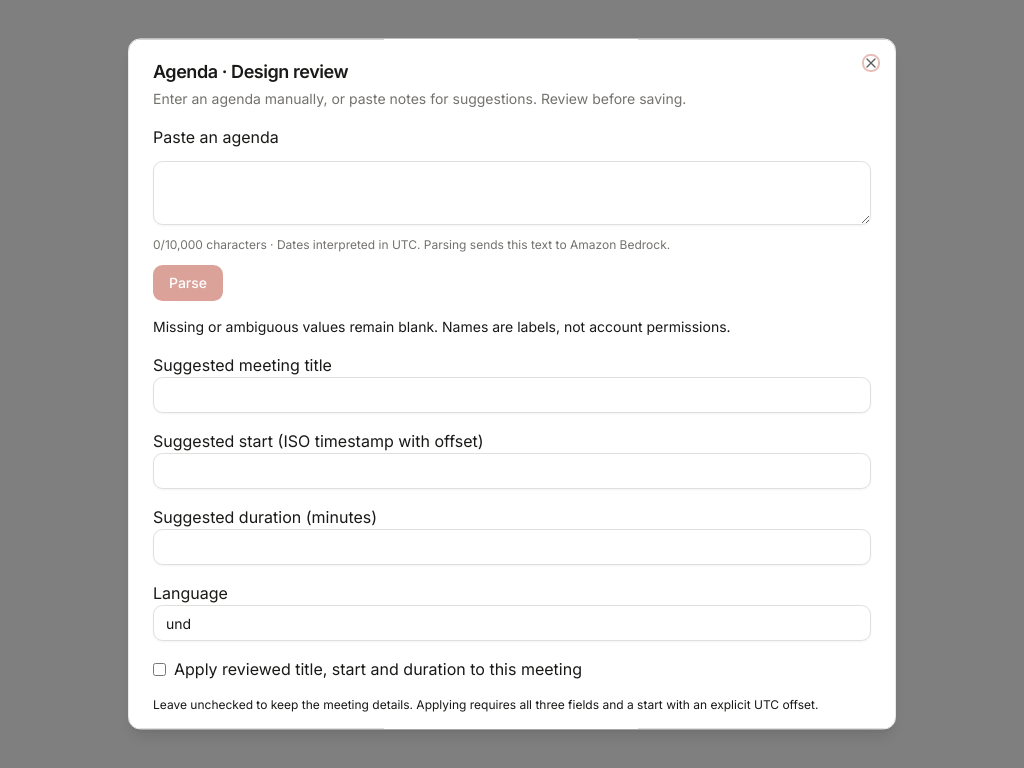
Test case: Agendas › cancels and discards a late parser response
In the text box labelled "Paste an agenda": (512, 193) [153, 161, 871, 225], type "Pricing sync"
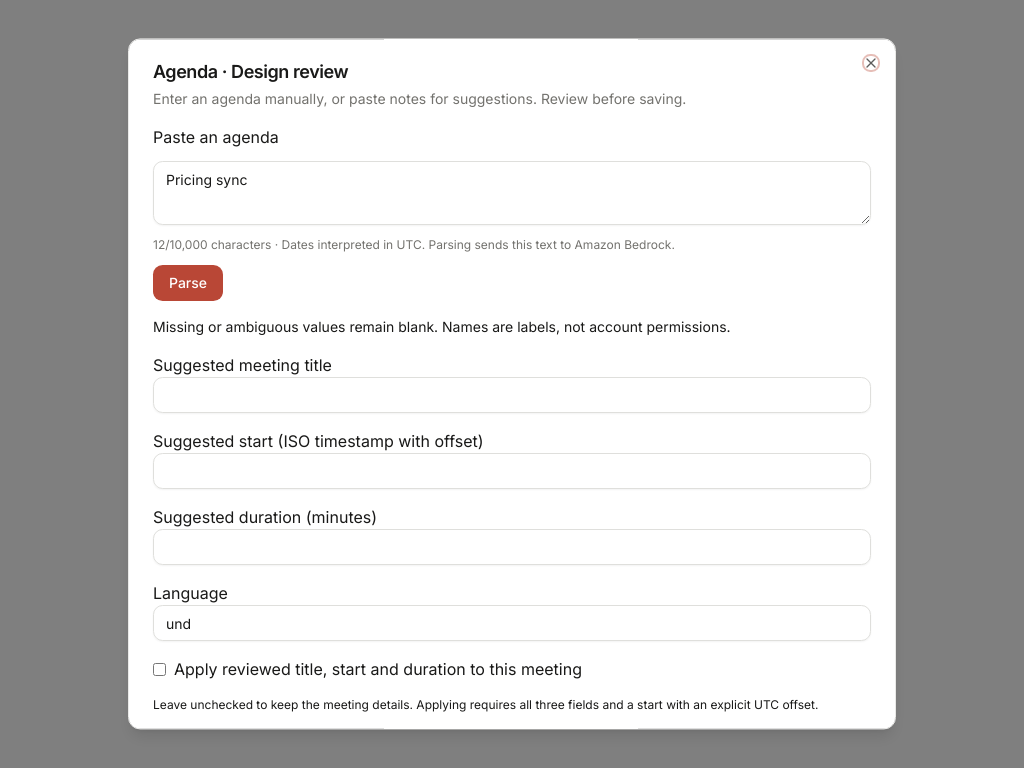
Click the button "Parse": (188, 283) [153, 265, 223, 301]
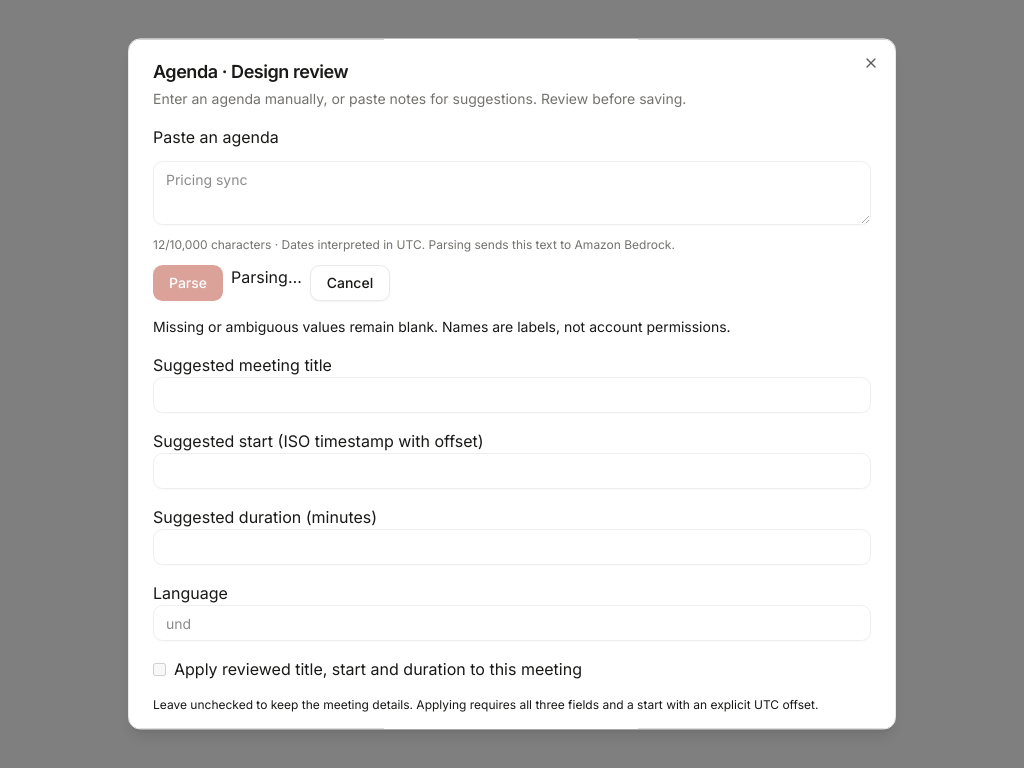
Check: the text "Parsing…" is shown, box [231, 267, 302, 287]
Click the button "Cancel": (350, 283) [310, 265, 390, 301]
(page scrolled)
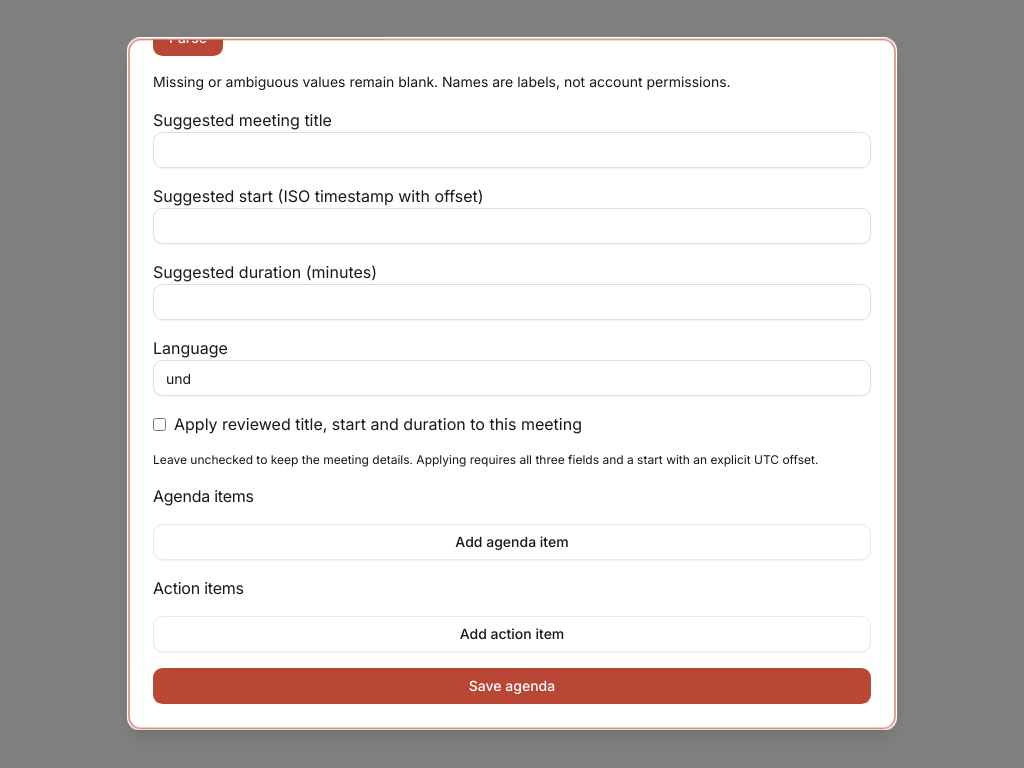
Check: the field showing "Pricing" is not shown
Check: the button "Add agenda item" is enabled, box [153, 524, 871, 560]
